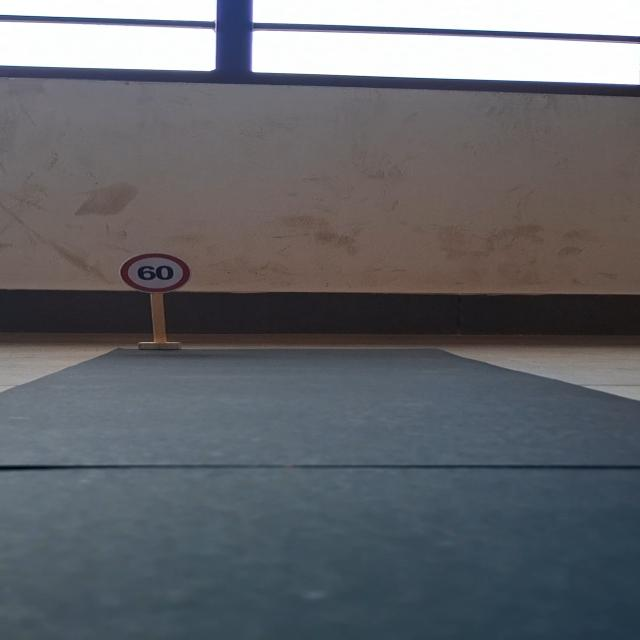Speed60: (116, 252, 198, 294)
